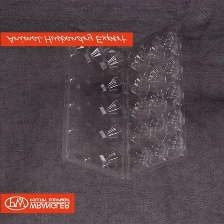plastic_box: (53, 14, 193, 186)
